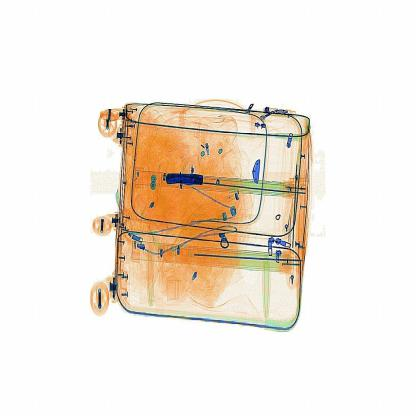knife: (158, 164, 219, 199)
